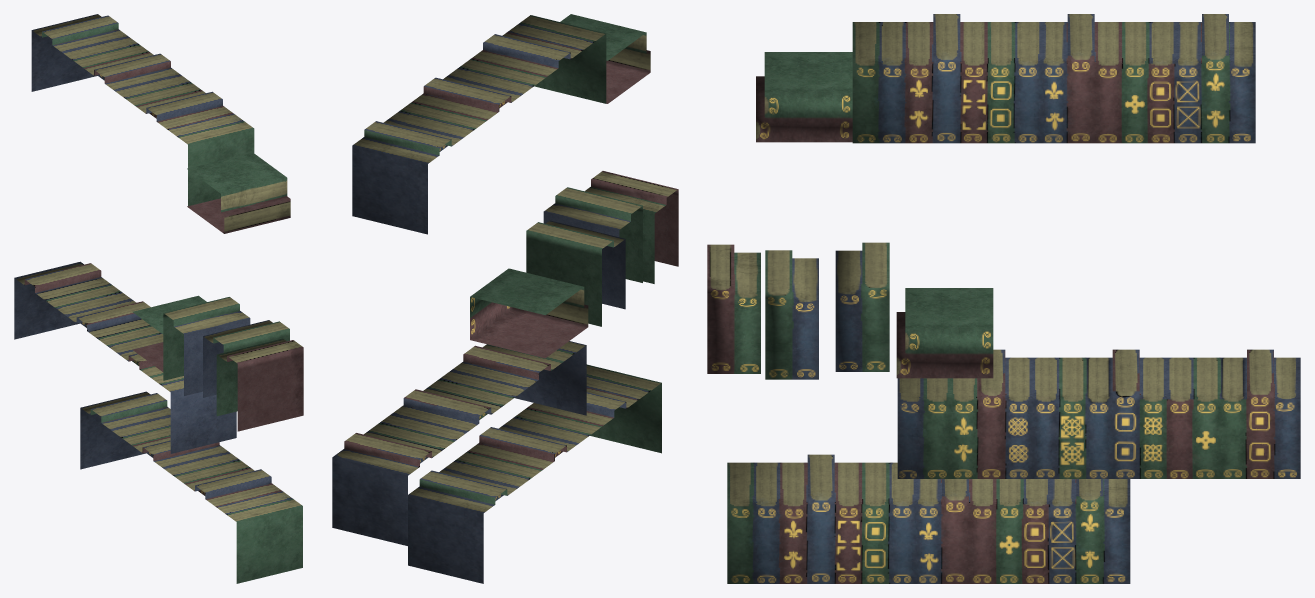
The model's file is BookCaseFill_B_02.fbx.
The picture shows the model from 3 angles, left to right: view 1: azimuth 30°, elevation 25°; view 2: azimuth 150°, elevation 25°; view 3: azimuth 270°, elevation 25°; orthographic projection. The views are drawn at different scales.
Visible parts, largest first — view 1: BookCaseFill_B_02; view 2: BookCaseFill_B_02; view 3: BookCaseFill_B_02.
Boxes of the visible parts, x1,y1,x2,y2 form: BookCaseFill_B_02: [14, 14, 303, 583]; BookCaseFill_B_02: [332, 14, 678, 583]; BookCaseFill_B_02: [707, 14, 1300, 583].
Bounding box in the file's own units: 29.45 × 147 × 150.
